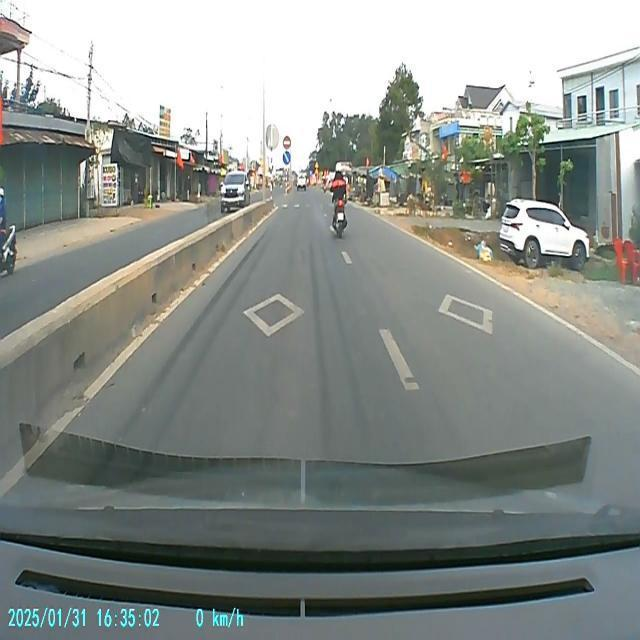102-cam-di-nguoc-chieu: (283, 134, 291, 150)
302a-huong-phai-di-vong-chuong-ngai-vat-1: (282, 150, 291, 166)
